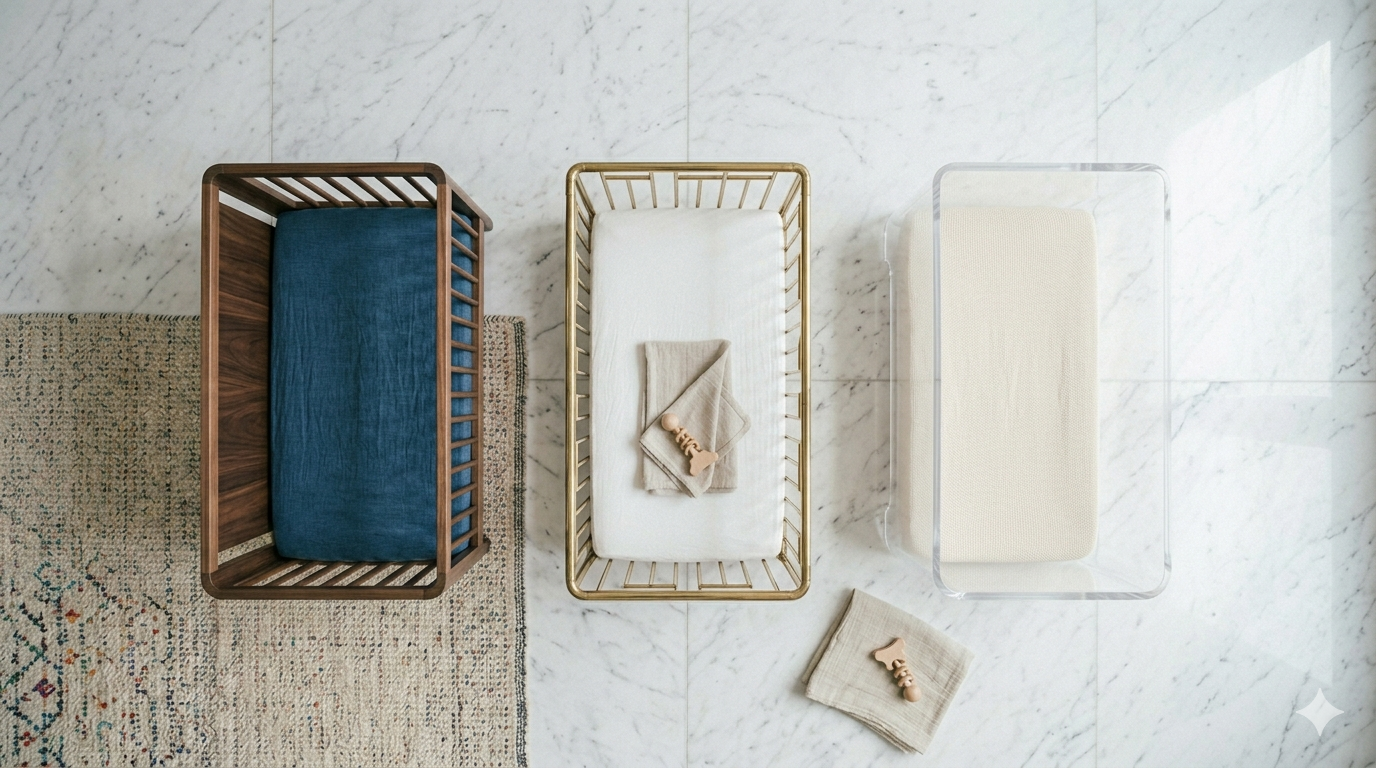crib: (884, 163, 1173, 599), (565, 163, 810, 599), (270, 208, 433, 560)
